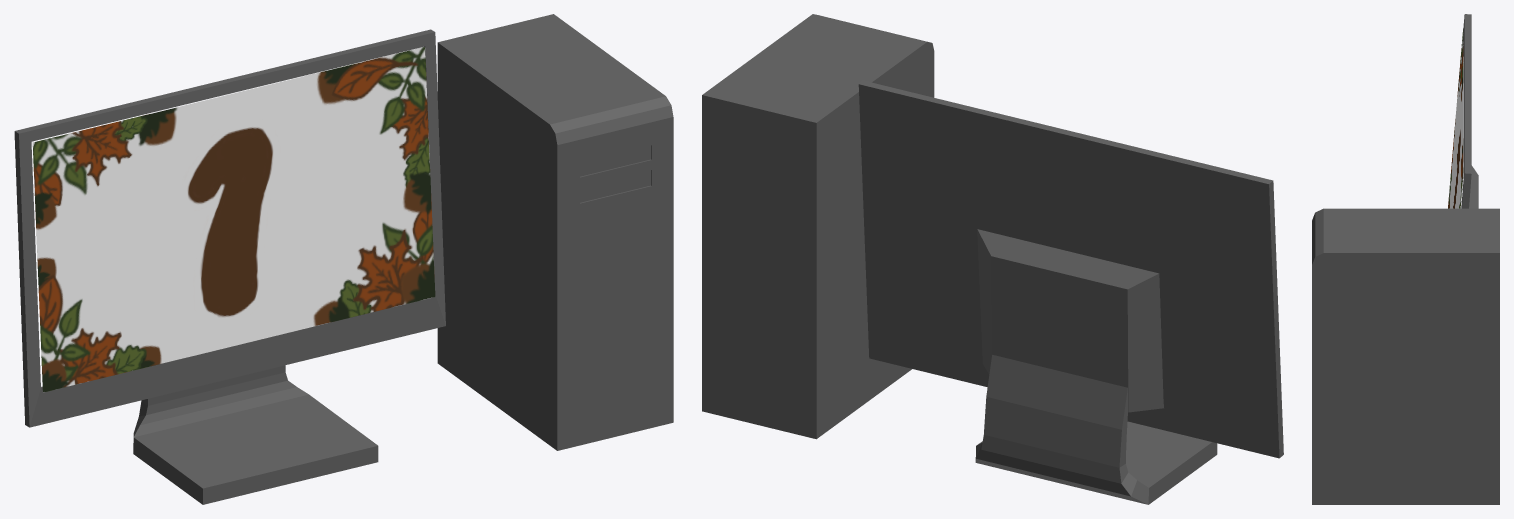
Rendered from computer1.gltf.
3 views of the same model, side by side, from view 1: azimuth 30°, elevation 25°; view 2: azimuth 150°, elevation 25°; view 3: azimuth 270°, elevation 25° (orthographic). The views are drawn at different scales.
Parts seen in each view (by area): view 1: computer.007, Fläche.001; view 2: computer.007; view 3: computer.007, Fläche.001.
Boxes of the visible parts, x1=… form: computer.007: x1=14, y1=14, x2=673, y2=504; Fläche.001: x1=32, y1=47, x2=435, y2=392; computer.007: x1=702, y1=14, x2=1283, y2=504; computer.007: x1=1312, y1=14, x2=1499, y2=504; Fläche.001: x1=1448, y1=28, x2=1463, y2=208.
Bounding box in the file's own units: 5.37 × 3.26 × 2.
Materials: 3 (1 with a texture image).
